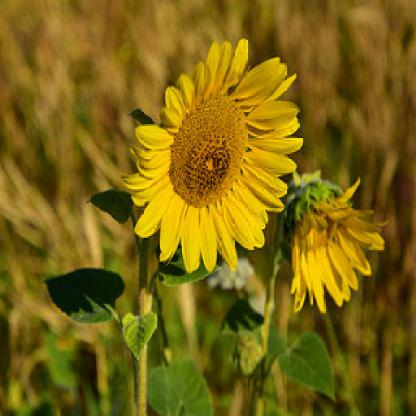SUN FLOWER: (84, 27, 390, 351)
